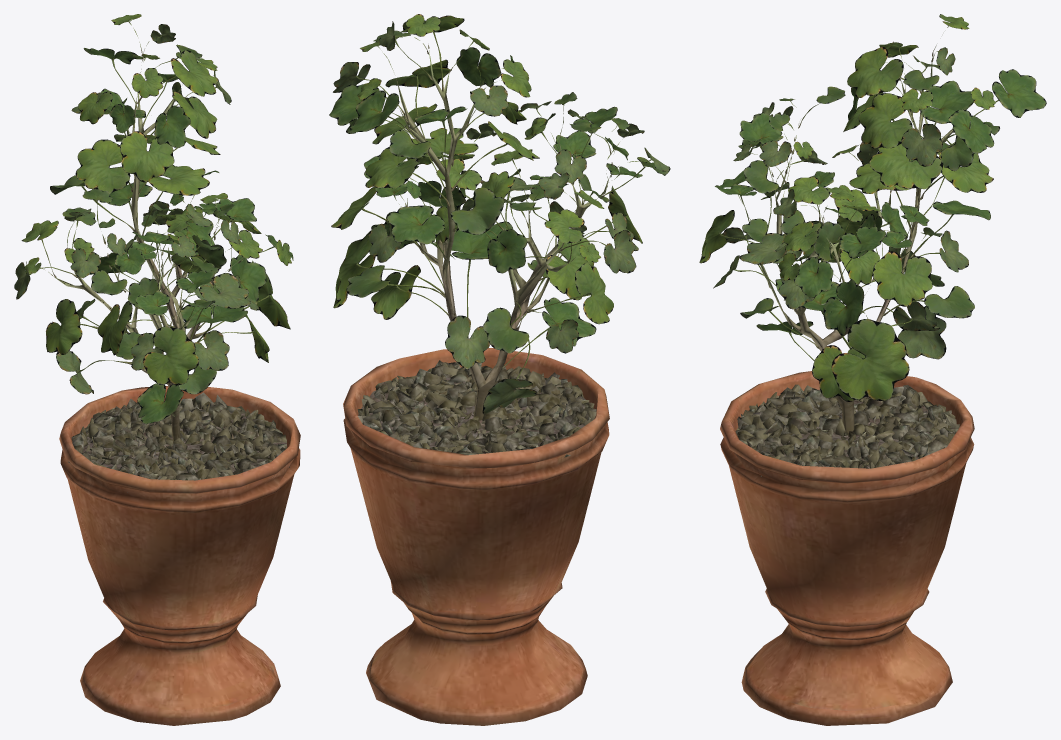
The model's file is hp_room_cc0_plant.glb.
3 views of the same model, side by side, from view 1: azimuth 30°, elevation 25°; view 2: azimuth 150°, elevation 25°; view 3: azimuth 270°, elevation 25° (orthographic). The views are drawn at different scales.
Visible parts, largest first — view 1: potted_plant_01_stem, potted_plant_01_leaves; view 2: potted_plant_01_stem, potted_plant_01_leaves; view 3: potted_plant_01_stem, potted_plant_01_leaves.
Boxes of the visible parts, x1,y1,x2,y2 form: potted_plant_01_stem: (54,72,300,725); potted_plant_01_leaves: (14,14,293,424); potted_plant_01_stem: (343,50,609,725); potted_plant_01_leaves: (329,14,670,414); potted_plant_01_stem: (720,56,974,725); potted_plant_01_leaves: (699,14,1046,401).
Size of the model in its own units: 0.5871 by 1.34 by 0.6336.
Materials: 2 (2 with a texture image).
